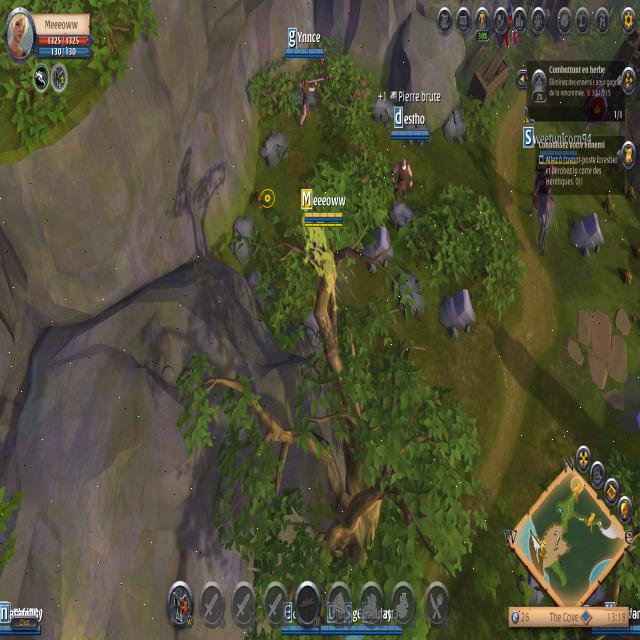broken stone: (394, 264, 427, 322), (245, 263, 279, 317), (228, 212, 262, 265), (256, 127, 291, 172), (441, 101, 475, 146), (388, 197, 423, 240), (368, 88, 397, 130)
stone: (435, 281, 482, 340), (359, 218, 395, 272), (567, 208, 605, 259)
